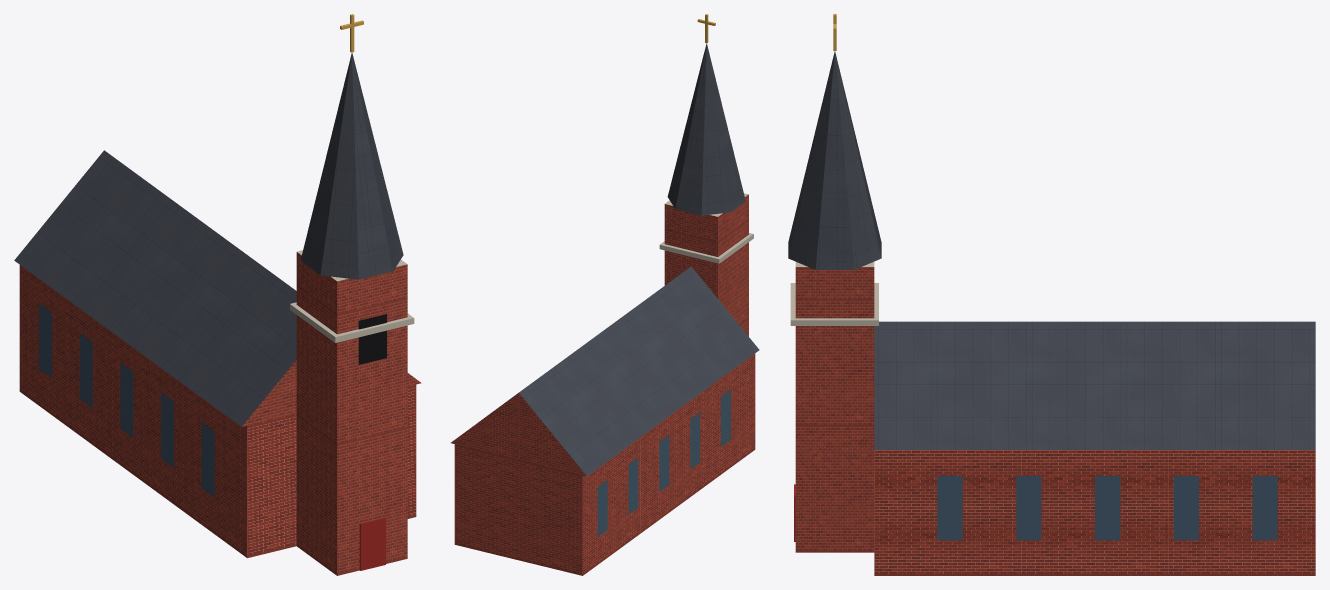
Rendered from 081_small_church.glb.
3 renders of one model, left to right at view 1: azimuth 30°, elevation 25°; view 2: azimuth 150°, elevation 25°; view 3: azimuth 270°, elevation 25°, orthographic. The views are drawn at different scales.
Parts seen in each view (by area): view 1: 081_small_church; view 2: 081_small_church; view 3: 081_small_church.
Part boxes in pixels (box(x1,y1,x2,y2)): 081_small_church: box(14, 14, 421, 575); 081_small_church: box(451, 14, 759, 575); 081_small_church: box(788, 14, 1315, 575).
Bounding box in the file's own units: 12.8 × 36.5 × 33.46.
Materials: 7 (2 with a texture image).
